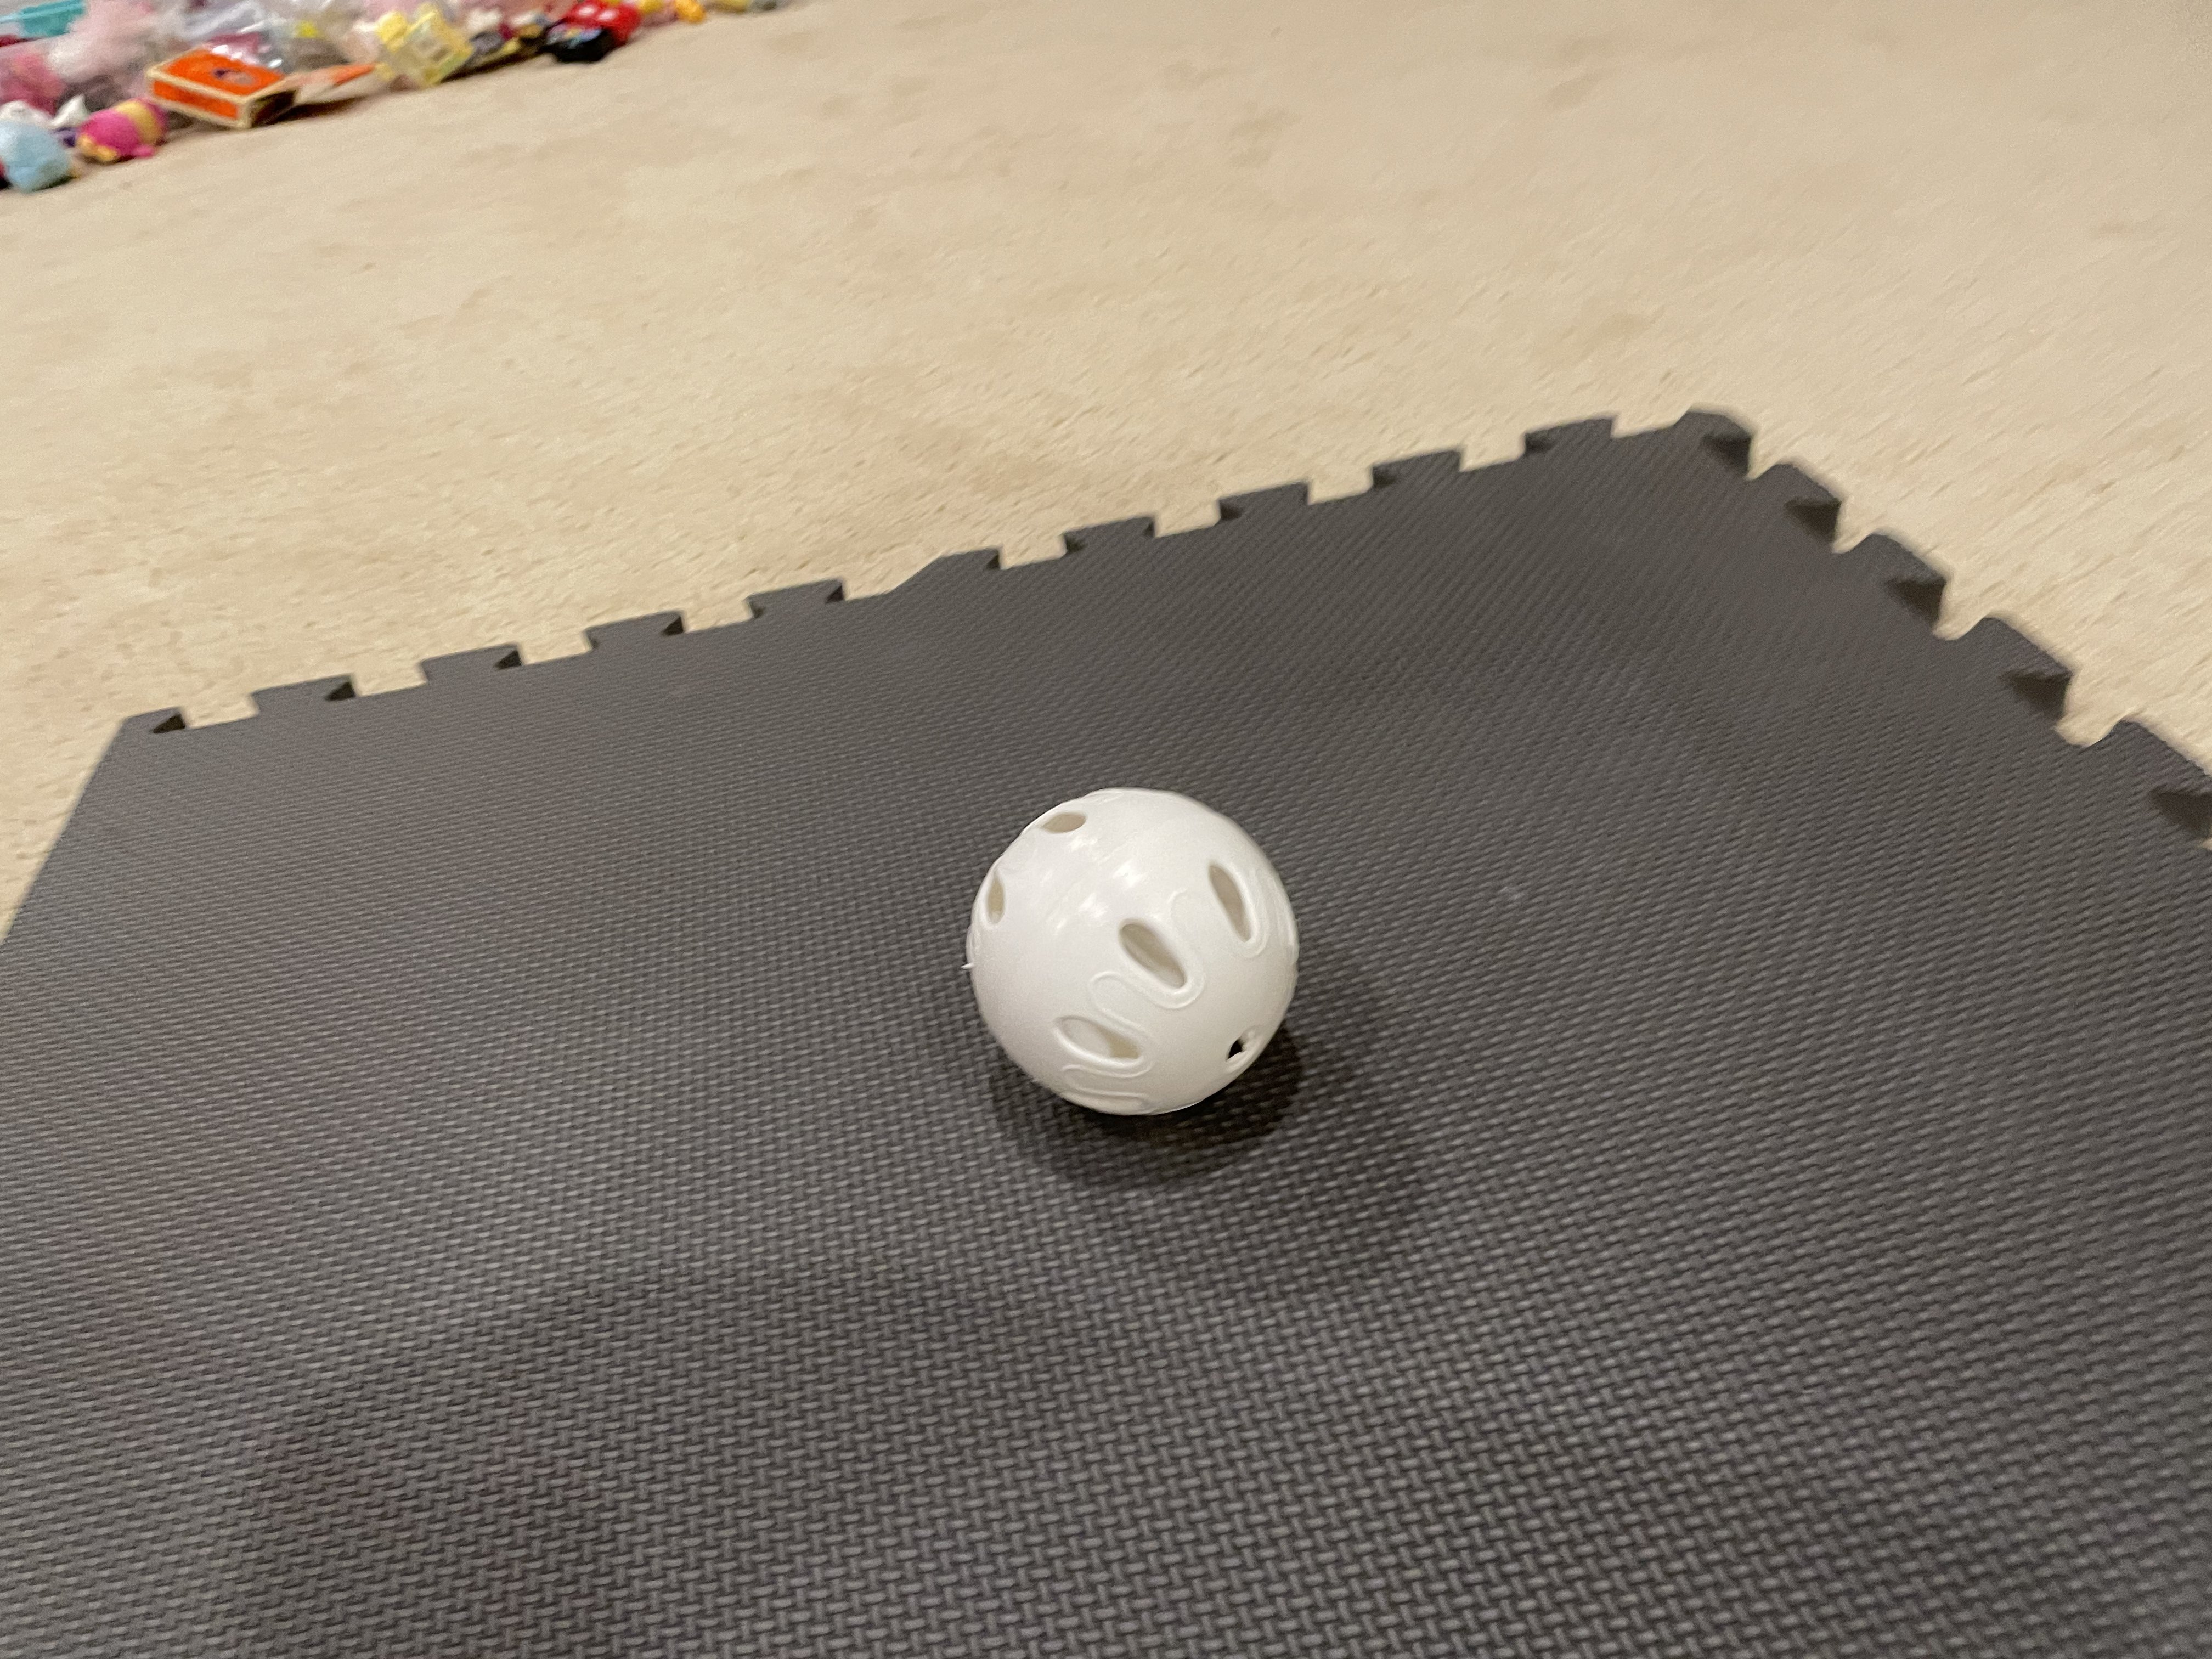ball: (923, 742, 1325, 1143)
